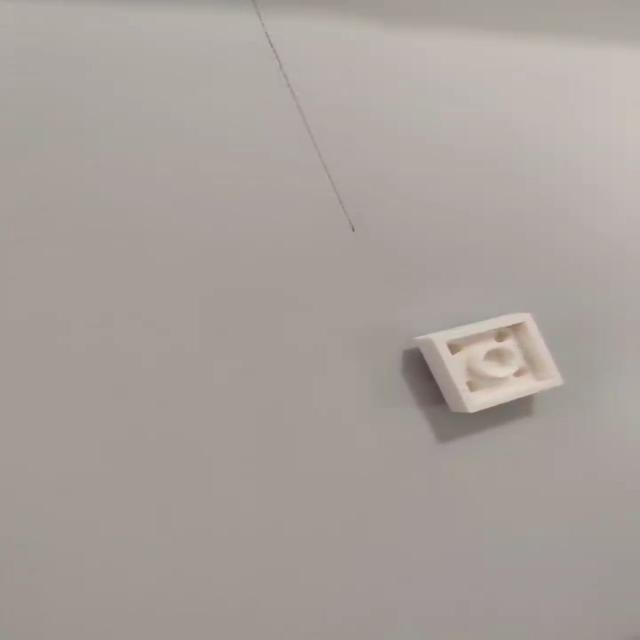C2x2x0: (420, 310, 568, 416)
